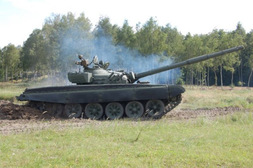t72: (22, 44, 236, 118)
